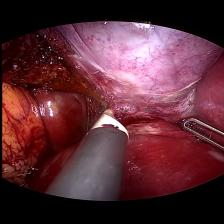Grasper: (180, 117, 224, 154)
Hook: (80, 104, 132, 140)
